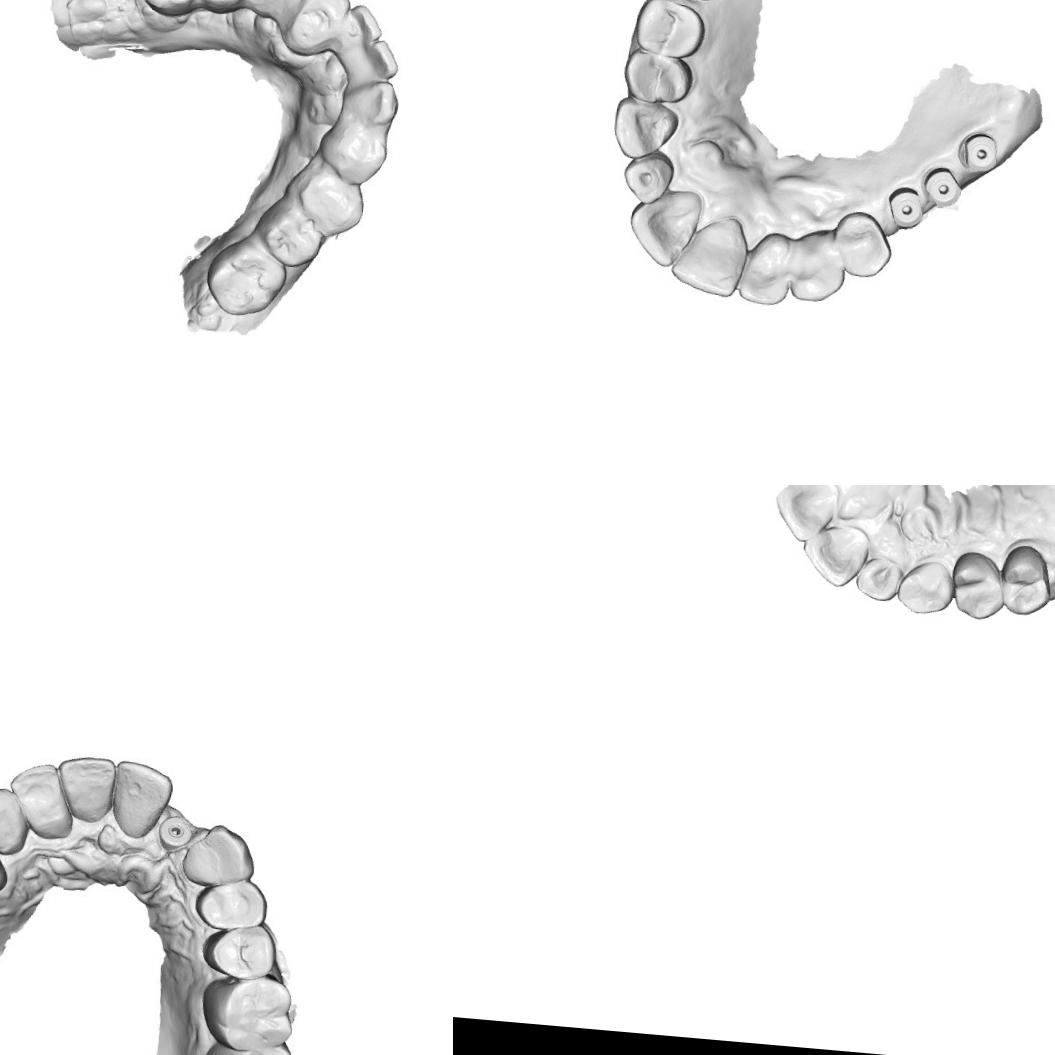canine: (608, 94, 678, 164), (788, 226, 848, 306), (320, 122, 392, 188), (186, 822, 252, 884), (895, 558, 955, 617), (0, 783, 33, 856), (245, 0, 316, 19)
implant: (884, 182, 938, 238), (955, 127, 1002, 176), (920, 166, 964, 212), (158, 811, 190, 851)
incisor: (668, 214, 750, 299), (626, 188, 700, 269), (110, 757, 174, 839), (730, 234, 798, 310), (11, 763, 74, 840), (798, 526, 868, 590), (772, 485, 837, 546), (58, 754, 115, 819), (615, 151, 673, 205), (357, 71, 408, 128), (852, 552, 902, 604), (359, 38, 406, 86), (300, 0, 354, 36), (340, 0, 382, 45)
molar: (202, 238, 290, 321), (216, 975, 296, 1054), (207, 1039, 295, 1055)
premolar: (612, 44, 696, 108), (298, 166, 365, 239), (257, 200, 326, 269), (629, 0, 707, 61), (831, 207, 895, 280), (948, 548, 1007, 622), (207, 922, 278, 982), (997, 542, 1053, 618), (198, 876, 266, 926), (133, 0, 206, 19)
